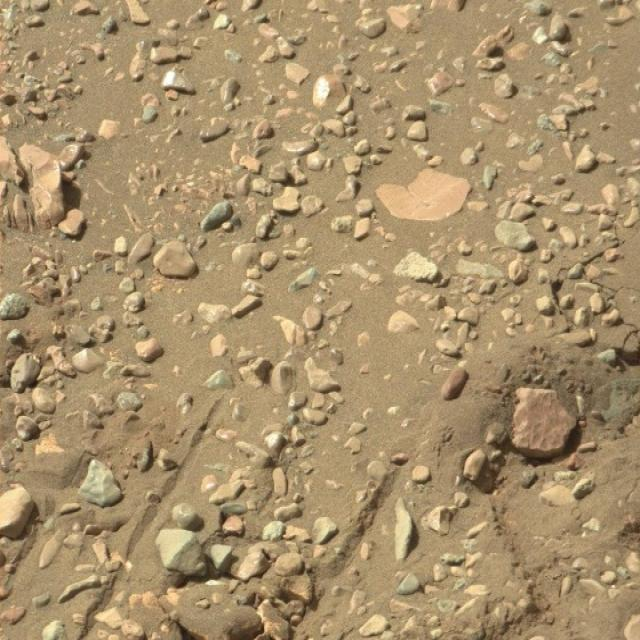mars-rocks: (513, 389, 578, 458), (17, 143, 64, 228), (0, 487, 33, 540), (155, 530, 196, 570)
